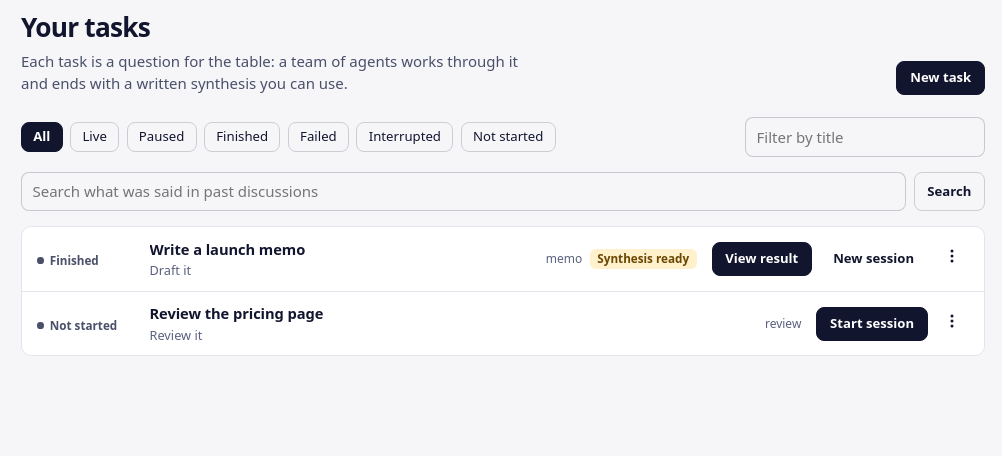
Test: TaskBoard transcript search › says so when nothing matches
expect the heading "Review the pricing page" is shown: met, box [150, 303, 323, 323]
In the search field named "search past discussions": (464, 191) [21, 172, 906, 211], type "zzz"
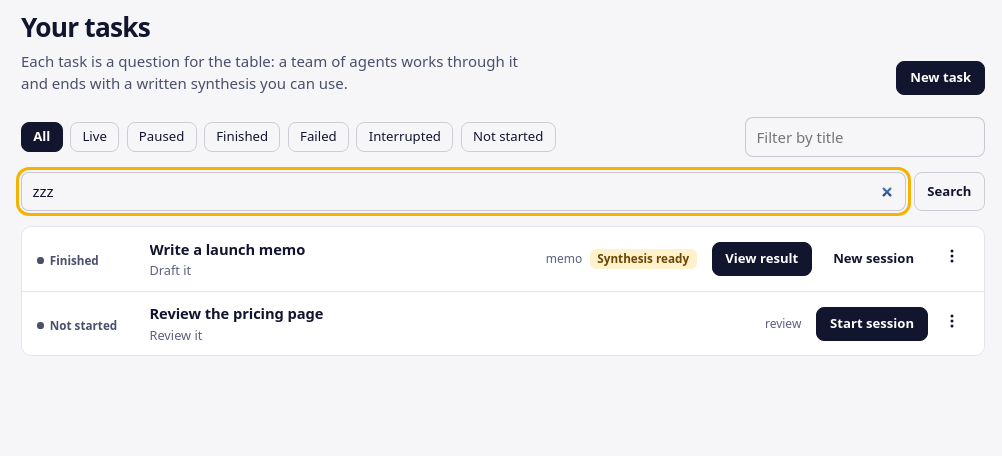
Click the button "Search": (949, 191) [914, 172, 985, 211]
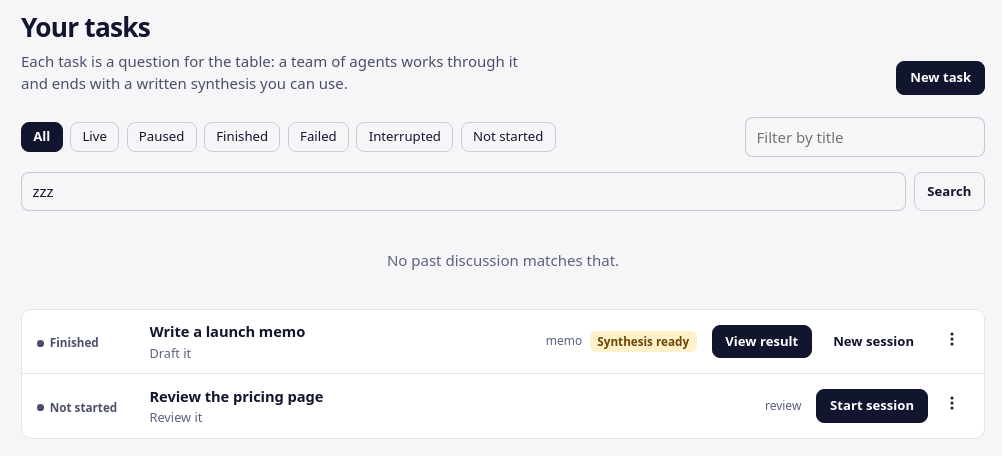
expect the text "No past discussion matches that." is shown: met, box [387, 250, 619, 270]
